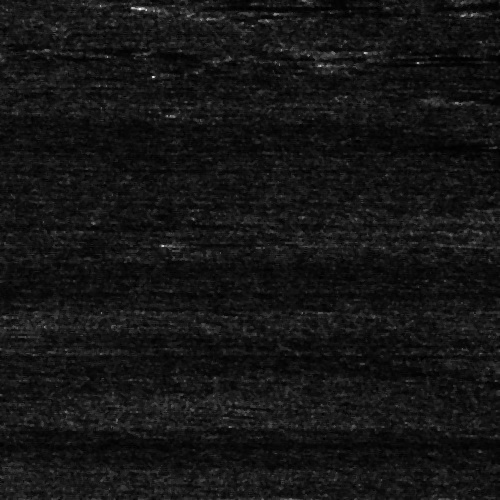object: (227, 53, 446, 70), (116, 5, 189, 10)
shadow: (336, 53, 500, 70), (153, 5, 366, 10)
